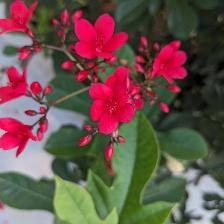jatropha: (73, 13, 130, 64), (89, 80, 137, 138)
